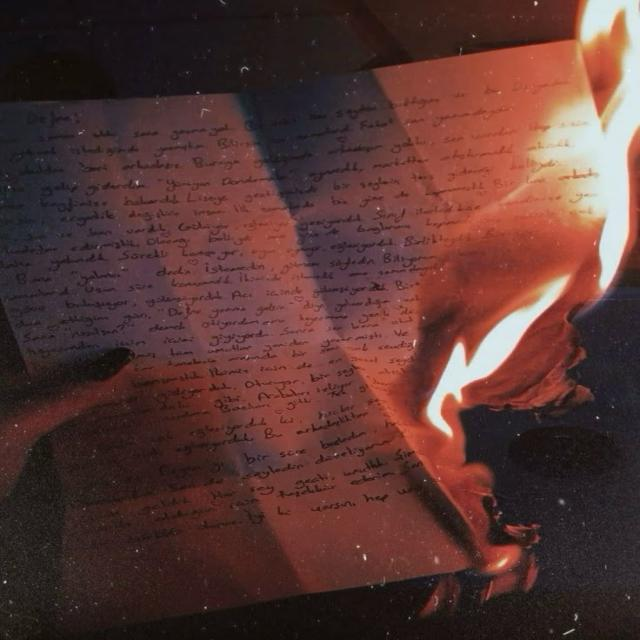fire: (427, 274, 577, 441), (581, 0, 640, 294)
